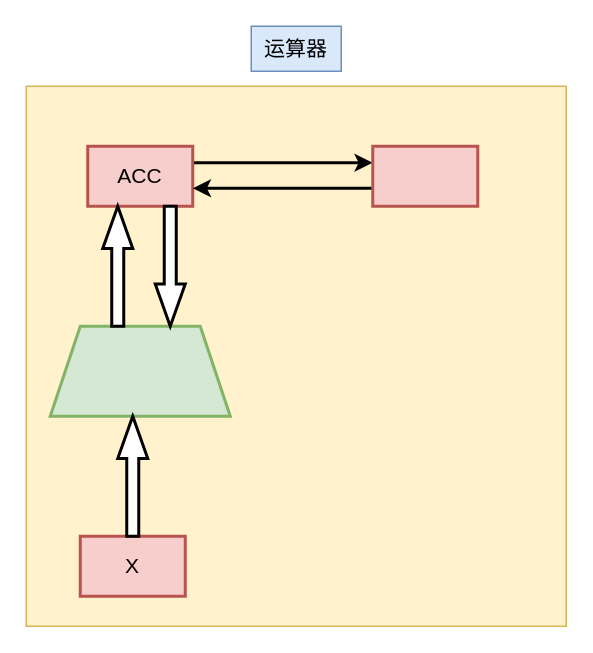
This 593x653 diagram has some shape labels left out. The shapes that lost their labels are listed below. From the top down, each one's centre as x and y in pixels, then its label:
point (424, 175): MQ
point (139, 370): ALU
